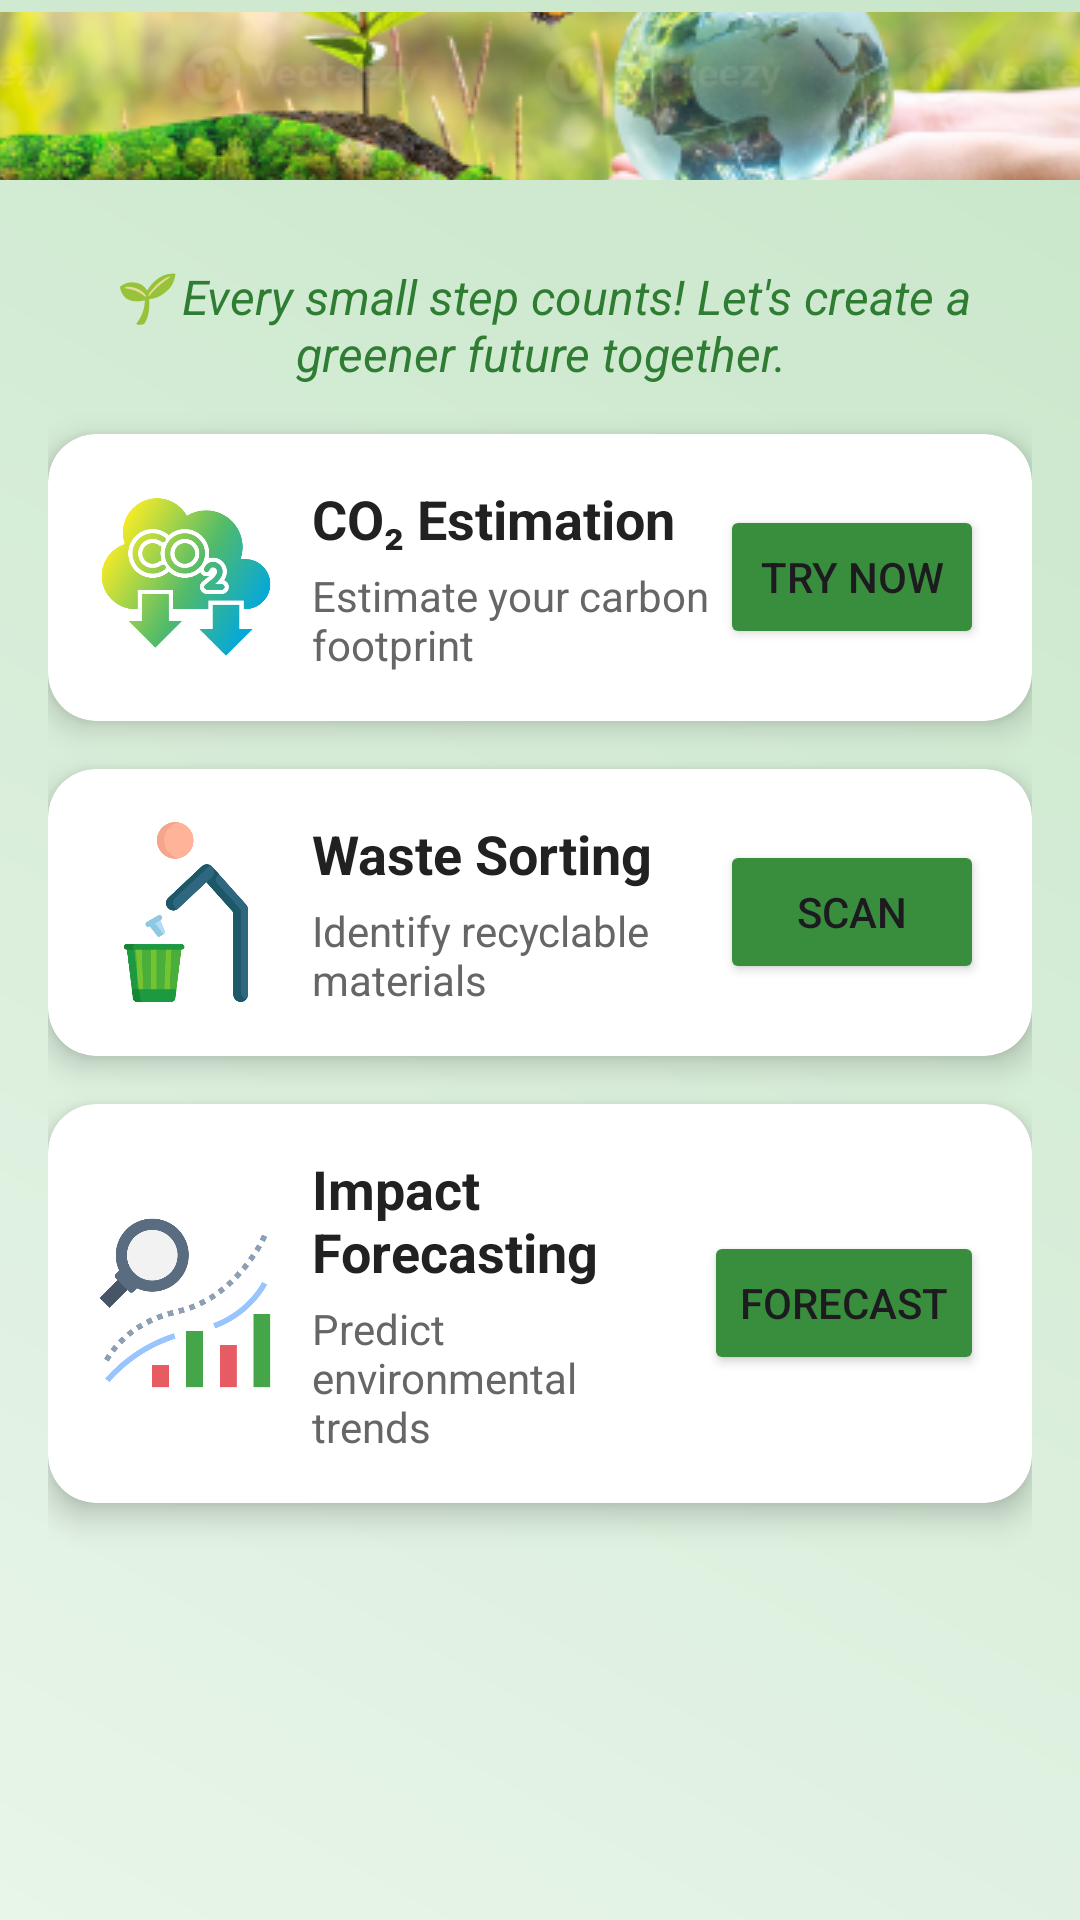

Screen size 1080 x 1920. Icon name, then its center in pixels as [x,y]:
Forecast Icon: [185,1303]
